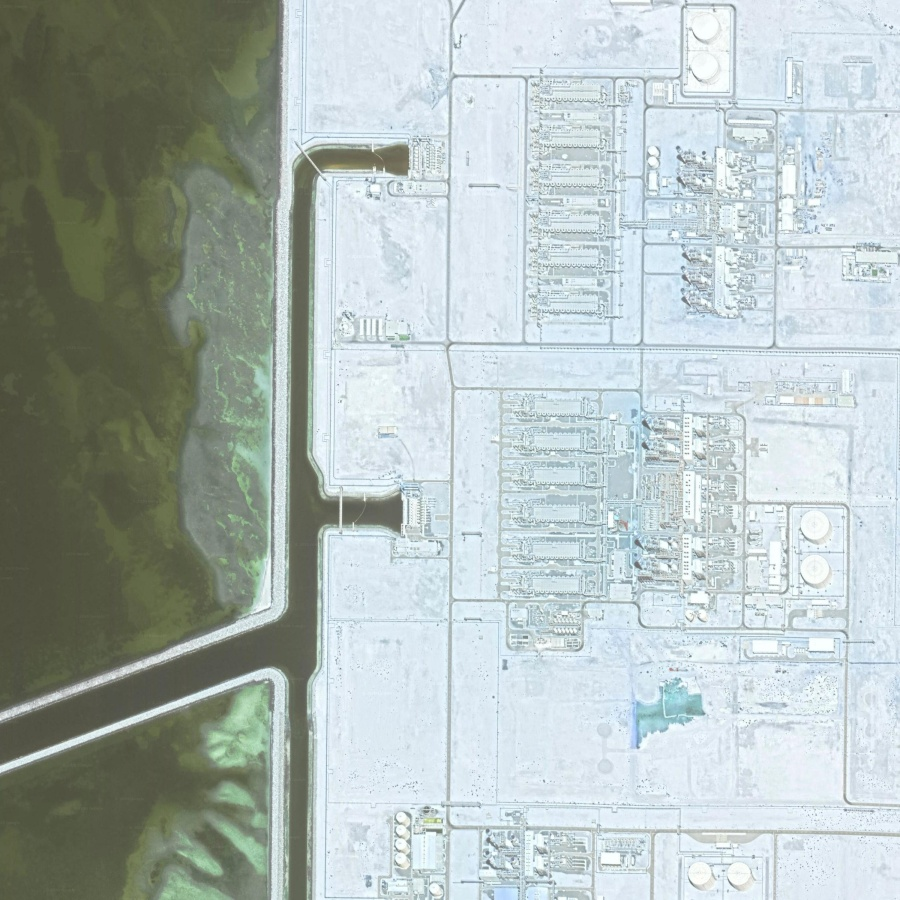PowerPlant: (484, 384, 846, 664)
